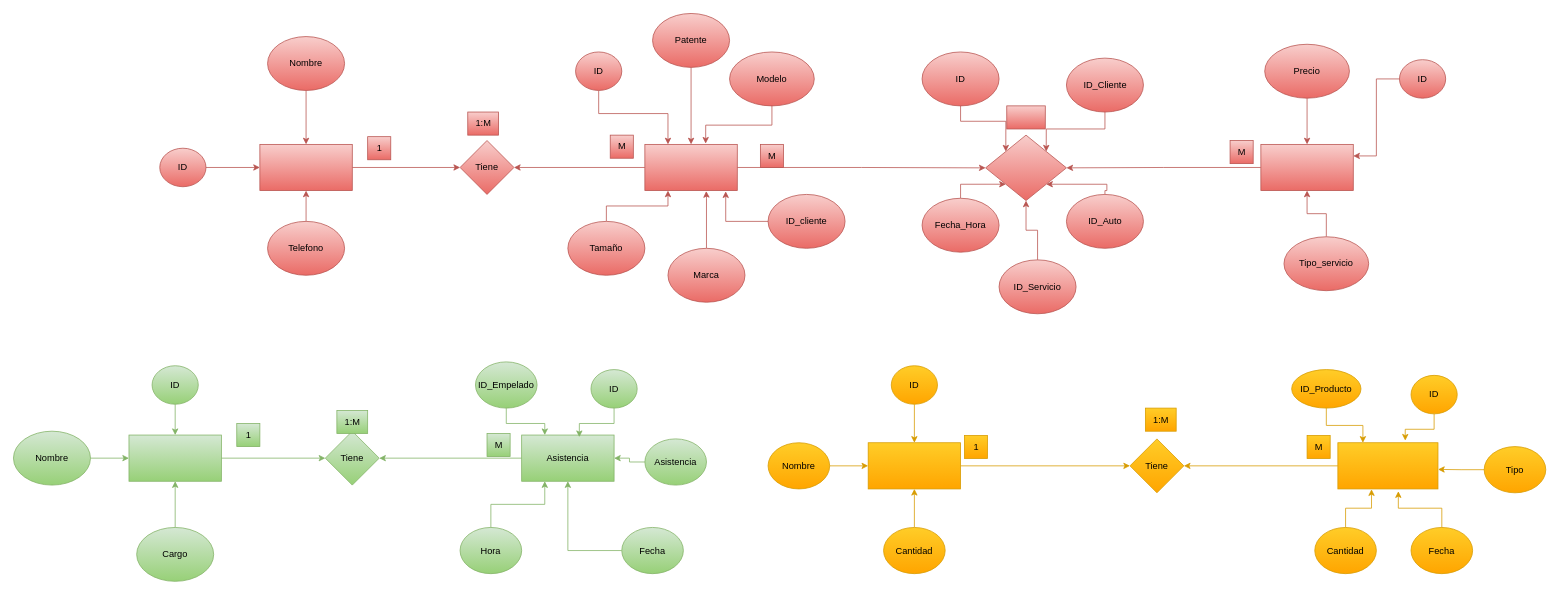
Image size: 1559x595. Some labels were removed from this diagram. Here are the shapes that lost their labels. From the top down, the centre of each, then its label:
[1025,117]: M:M
[305,167]: Cliente
[690,167]: Auto
[1025,167]: Registro_lavados
[1306,167]: Servicio
[174,457]: Empleado
[914,465]: Producto
[1387,465]: Movimiento_inventario
